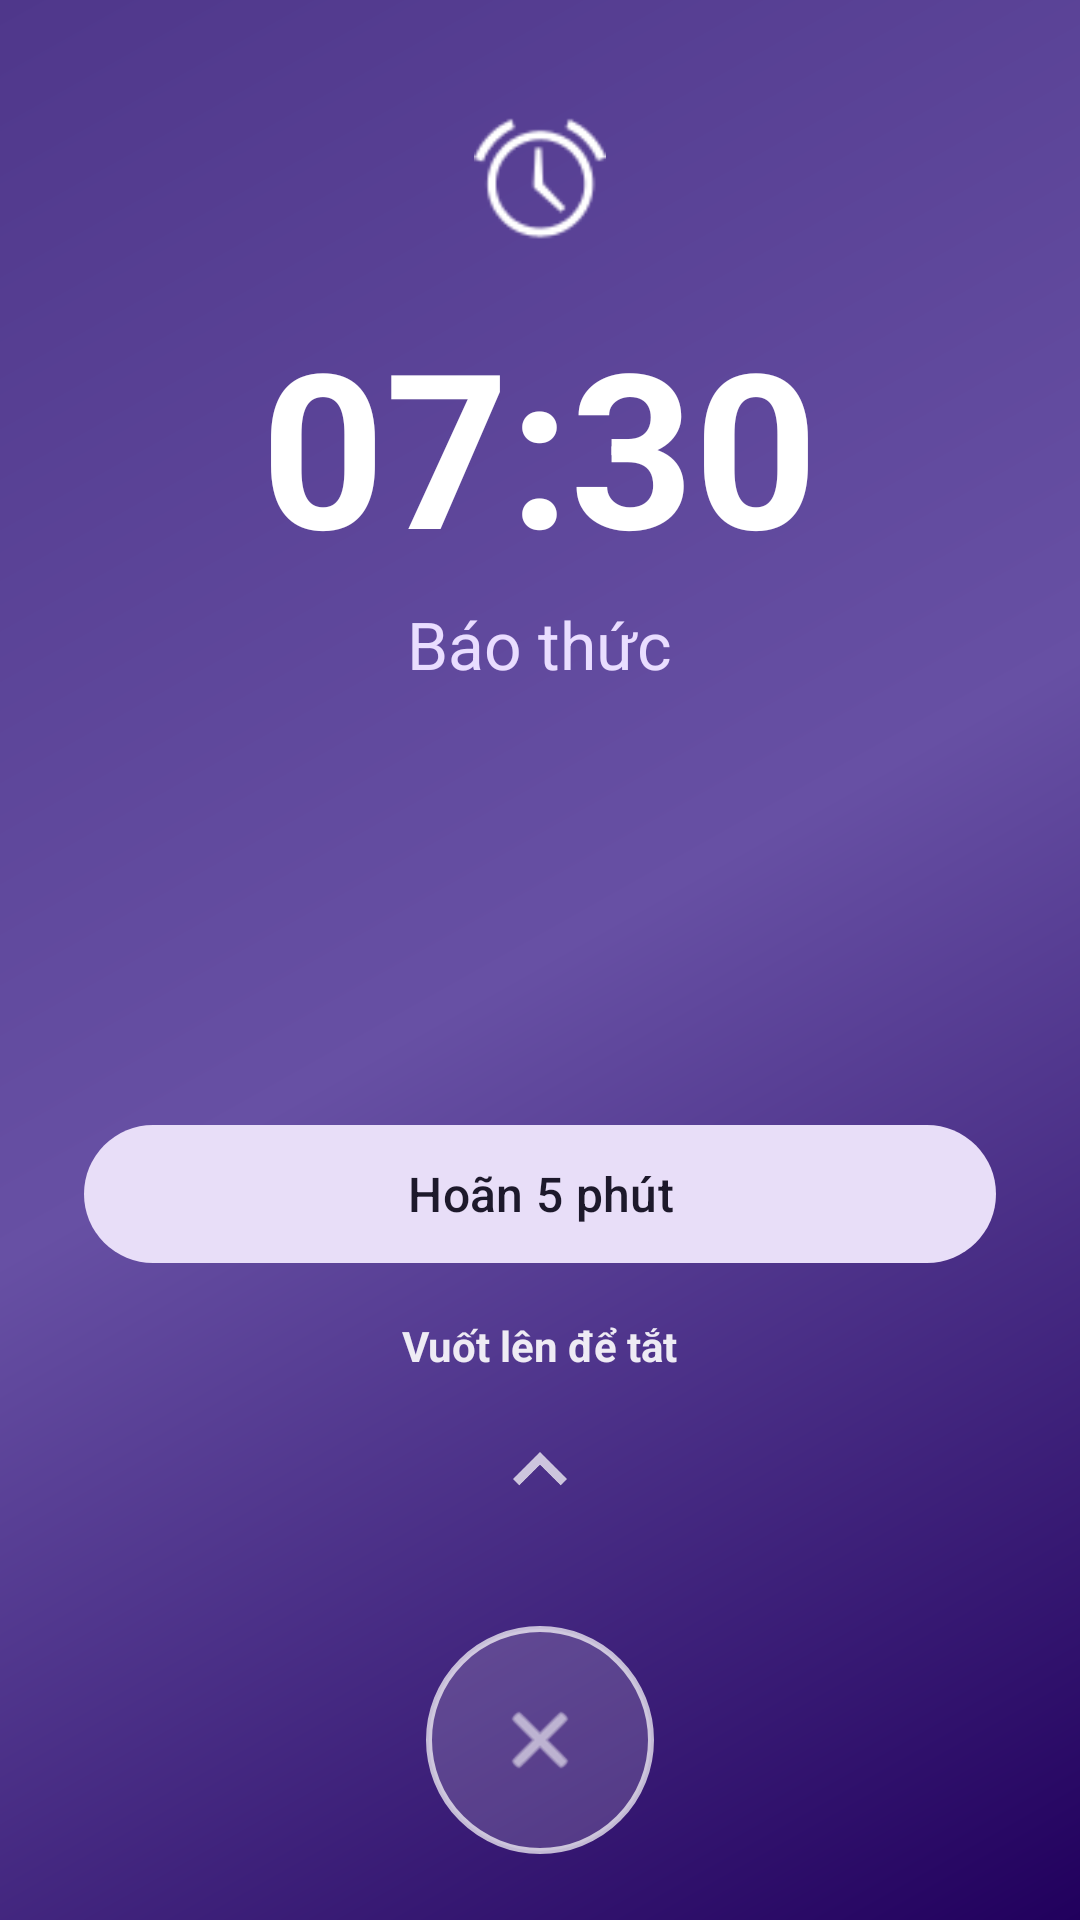

Where to tap for icons on this 1080 x 1920 app screen, as [x,y]:
chevron up: [540,1468]
close clear cancel: [540,1740]
lock idle alarm: [540,179]
